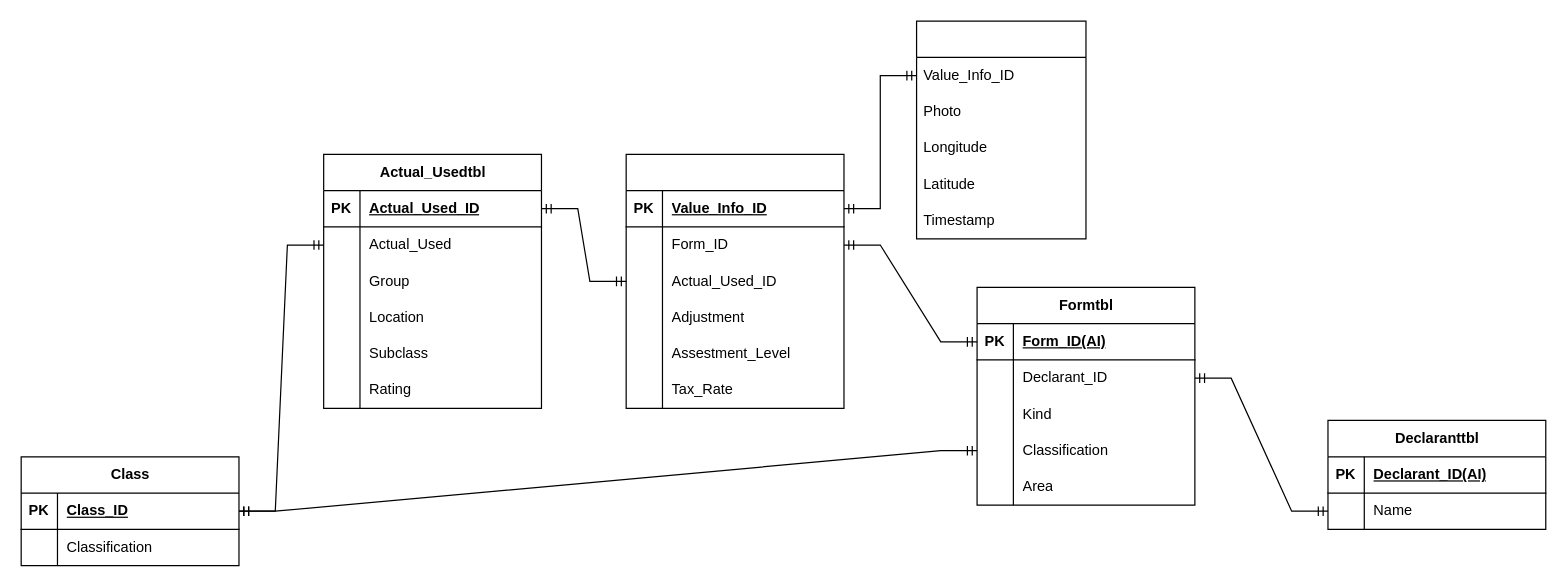
Image size: 1567x587. Some labels were removed from this diagram. Here are the shapes that lost their labels. From the top down, the box of each, then its label:
(915, 20, 1086, 239): Non_Agri_Tag
(625, 153, 844, 408): Value_Infotbl
